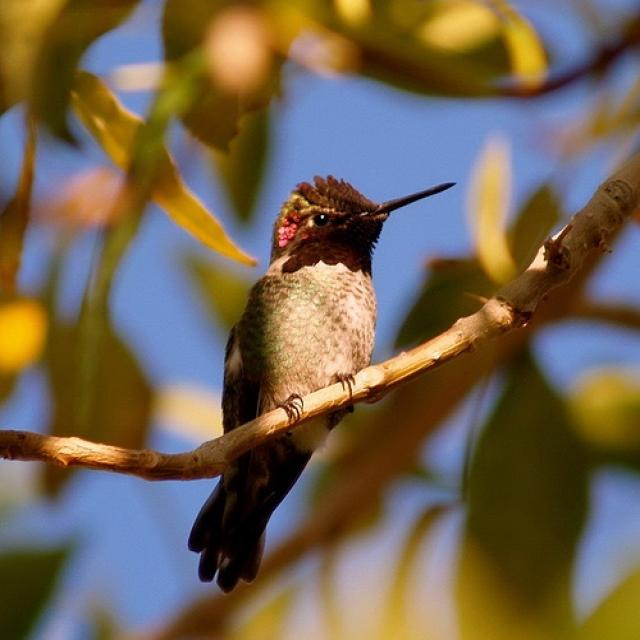bird: (190, 172, 456, 594)
